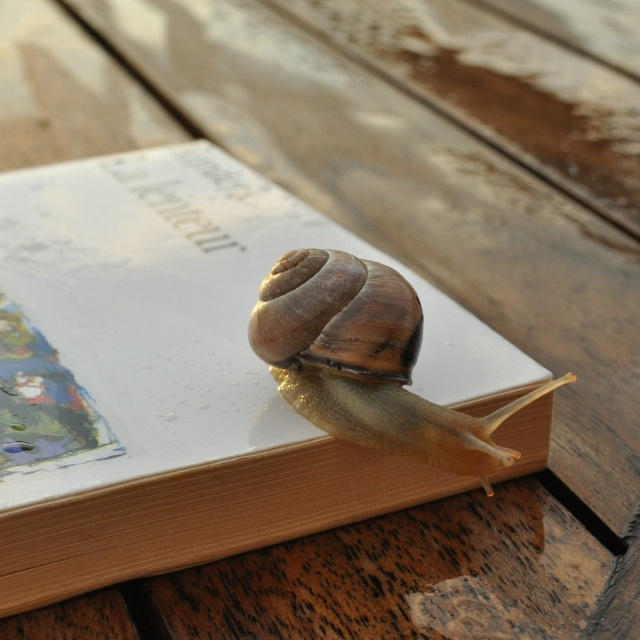Snail: (245, 245, 579, 499)
